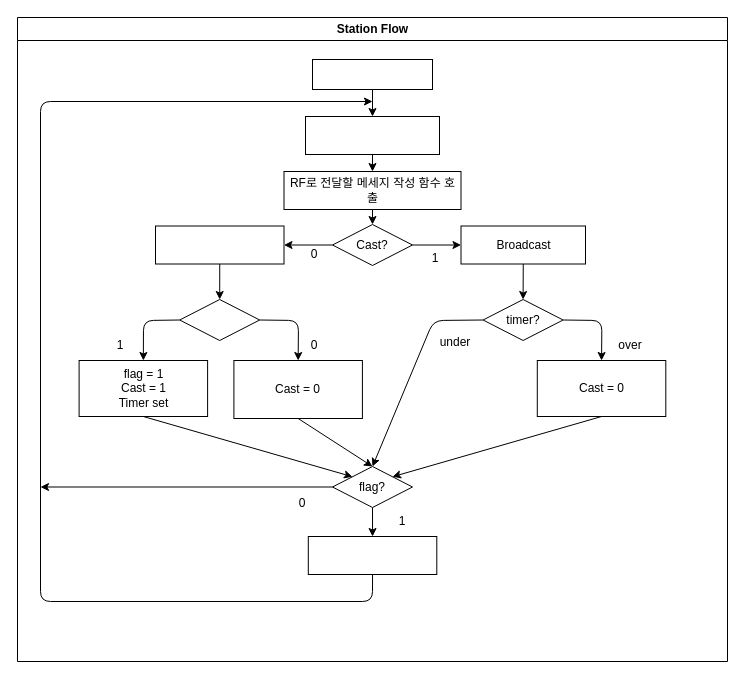
Image size: 745x679. Some labels were removed from this diagram. The centre of each missing label's shape, as x and y in pixels:
ACK?: the point at 219,319
I2C 데이터 요청 함수 호출: the point at 372,135
SingleCast: the point at 219,244
경고음 재생: the point at 372,555
시작: the point at 372,74
